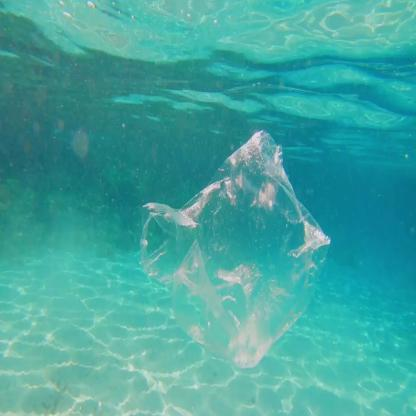Rác: (118, 125, 370, 374)
